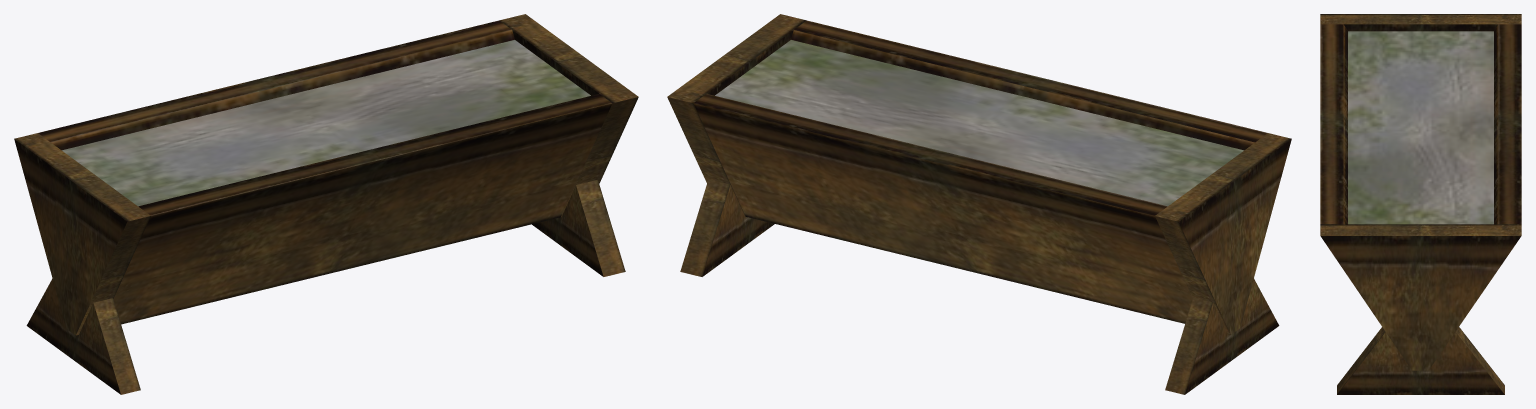
Rendered from pigtrough.fbx.
3 renders of one model, left to right at view 1: azimuth 30°, elevation 25°; view 2: azimuth 150°, elevation 25°; view 3: azimuth 270°, elevation 25°, orthographic. The views are drawn at different scales.
Parts seen in each view (by area): view 1: base, nurbsToPoly1, side, side1, side2, side3; view 2: base, nurbsToPoly1, side, side1, side2, side3; view 3: nurbsToPoly1, side1, base, side3, side.
Part boxes in pixels (box(x1,y1,x2,y2)): base: box(38, 20, 612, 324); nurbsToPoly1: box(62, 40, 590, 206); side: box(14, 133, 150, 335); side1: box(499, 14, 638, 216); side2: box(26, 278, 140, 394); side3: box(532, 180, 625, 276); base: box(693, 20, 1267, 323); nurbsToPoly1: box(715, 40, 1243, 206); side: box(1155, 133, 1291, 334); side1: box(667, 14, 806, 216); side2: box(1165, 278, 1279, 394); side3: box(680, 179, 774, 276); nurbsToPoly1: box(1348, 31, 1493, 224); side1: box(1320, 224, 1521, 370); base: box(1320, 24, 1521, 224); side3: box(1337, 327, 1504, 394); side: box(1320, 14, 1521, 31).
Bounding box in the file's own units: 425 × 144 × 163.
Materials: 1 (1 with a texture image).
